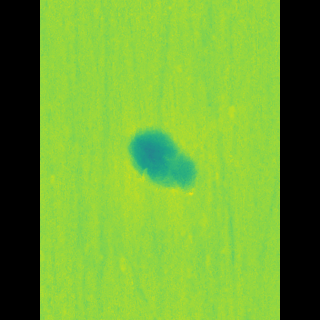Loch: (134, 123, 191, 197)
